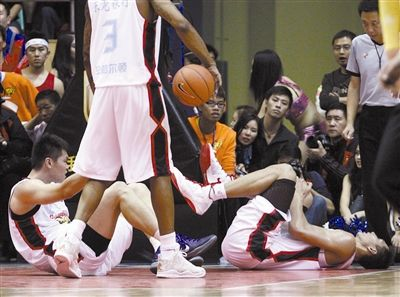10+: (1, 1, 400, 280)
down: (6, 136, 220, 283), (169, 142, 396, 274)
